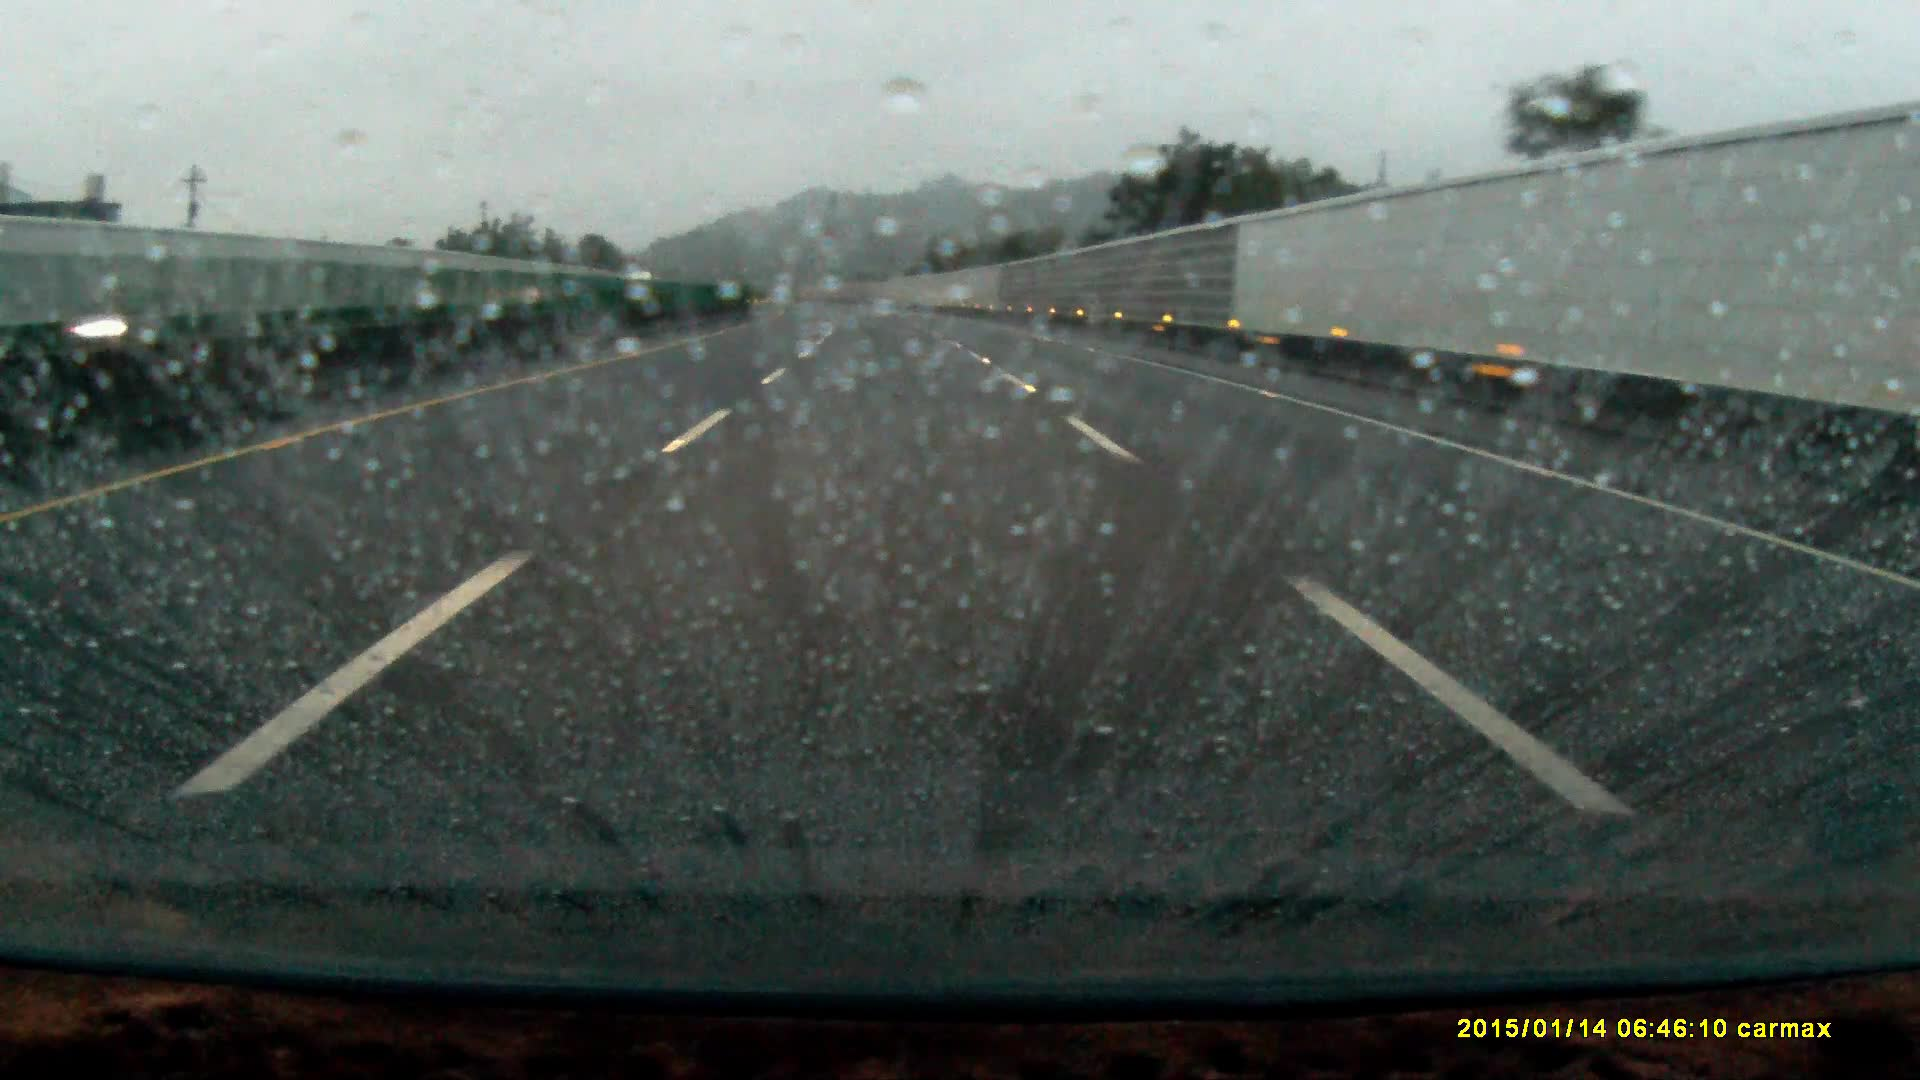vehicle: (82, 293, 152, 347)
